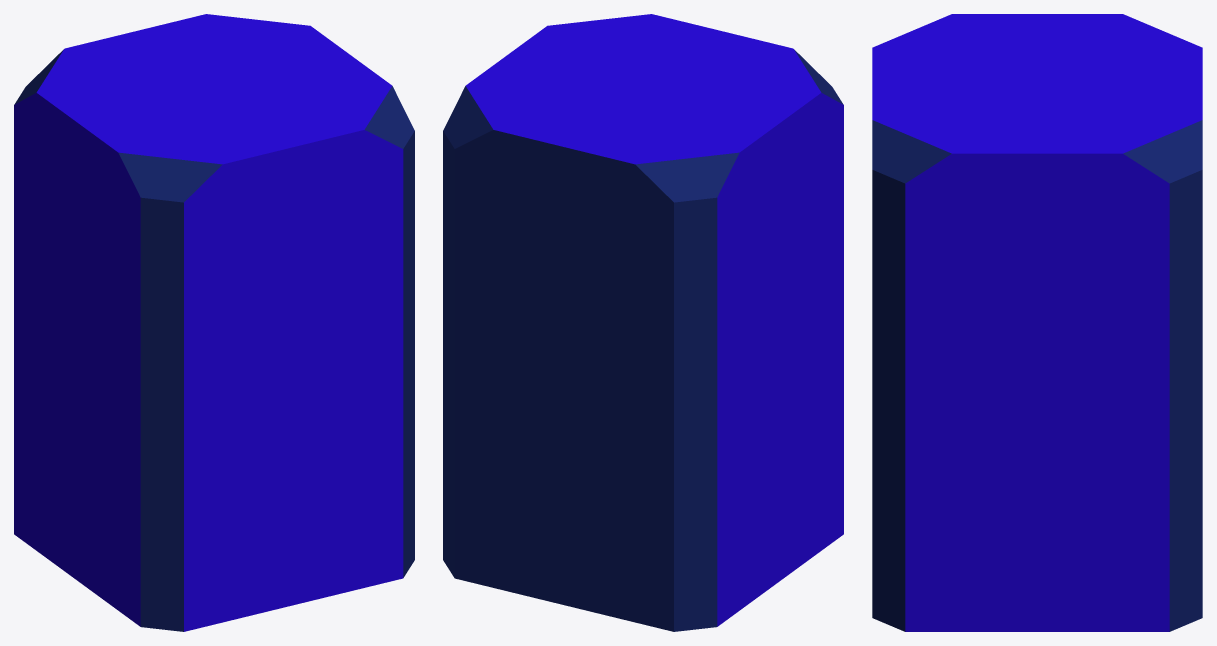
Rendered from char.fbx.
3 views of the same model, side by side, from view 1: azimuth 30°, elevation 25°; view 2: azimuth 150°, elevation 25°; view 3: azimuth 270°, elevation 25° (orthographic). The views are drawn at different scales.
Visible parts, largest first — view 1: Cube; view 2: Cube; view 3: Cube.
Boxes of the visible parts, bbox=[...] form: Cube: bbox=[14, 14, 414, 631]; Cube: bbox=[443, 14, 843, 631]; Cube: bbox=[872, 14, 1202, 631].
Size of the model in its own units: 200 by 319 by 200.
